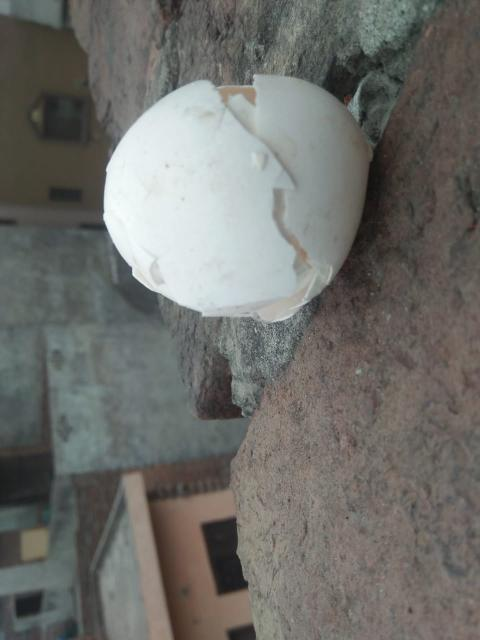Roto: (101, 72, 374, 324)
